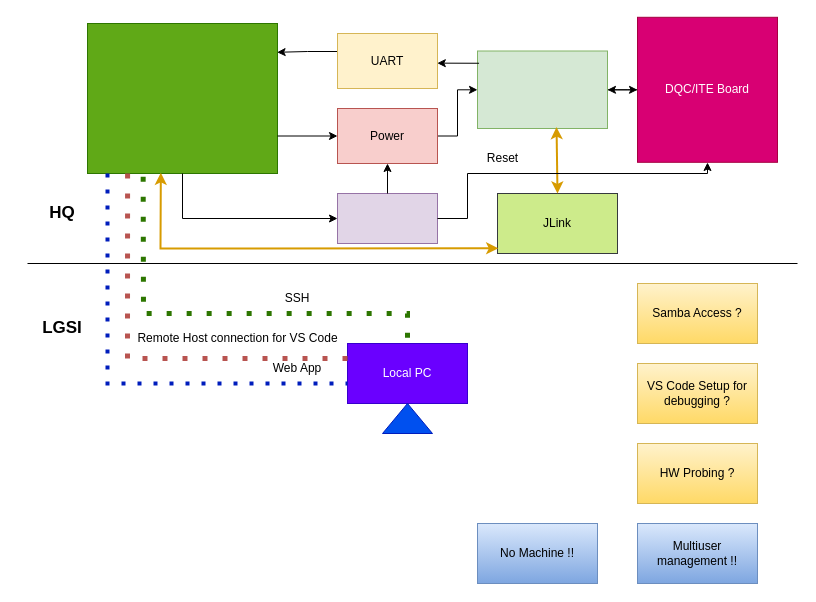
This 816x602 diagram has some shape labels left out. Here are the shapes that lost their labels. From the top down, the centre of each, then its label:
At point 182,98: "R-Pi 64 GB SSH + Web Application(Host) Source Code + Binary + Flashing Tool".
At point 542,89: "Debugger".
At point 387,218: "Relay".
